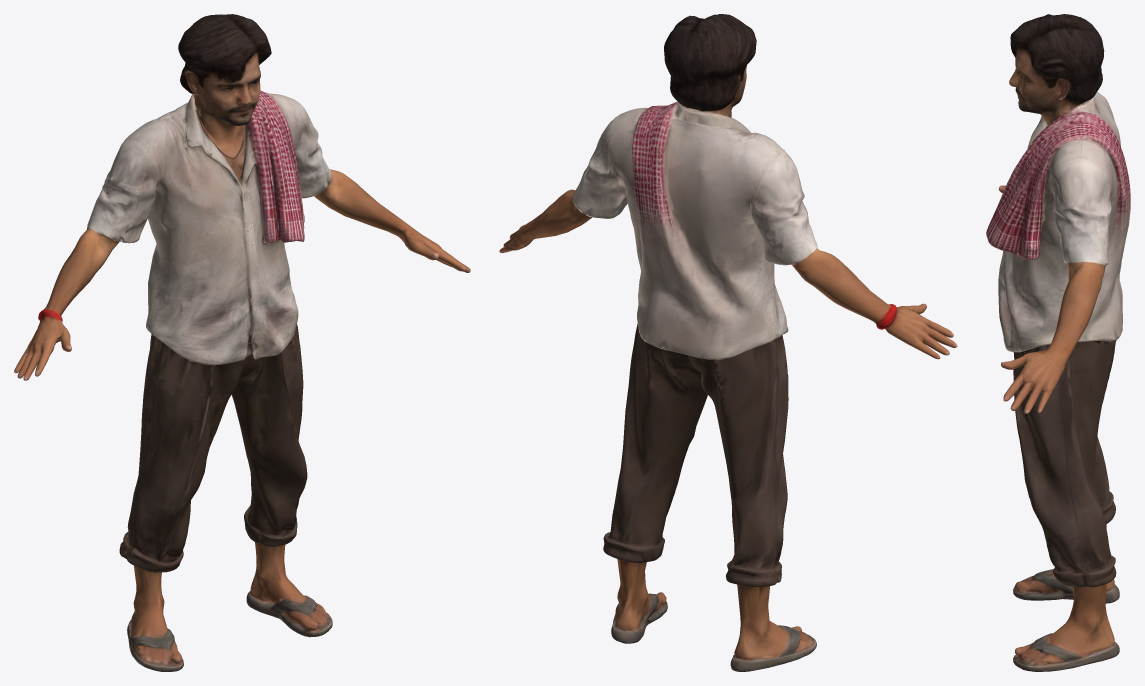
Rendered from npc-streetvendor.glb.
The picture shows the model from 3 angles, left to right: view 1: azimuth 30°, elevation 25°; view 2: azimuth 150°, elevation 25°; view 3: azimuth 270°, elevation 25°; orthographic projection.
Visible parts, largest first — view 1: SK_NPC_StreetVendor; view 2: SK_NPC_StreetVendor; view 3: SK_NPC_StreetVendor.
Part boxes in pixels (x1,y1,x2,y2): SK_NPC_StreetVendor: (14,14,470,671); SK_NPC_StreetVendor: (499,14,957,671); SK_NPC_StreetVendor: (986,14,1130,671).
Bounding box in the file's own units: 143 × 189 × 40.61.
Materials: 1 (1 with a texture image).
